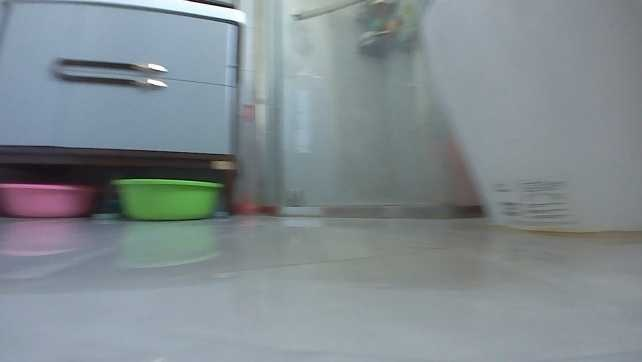toilet: (418, 1, 640, 238)
